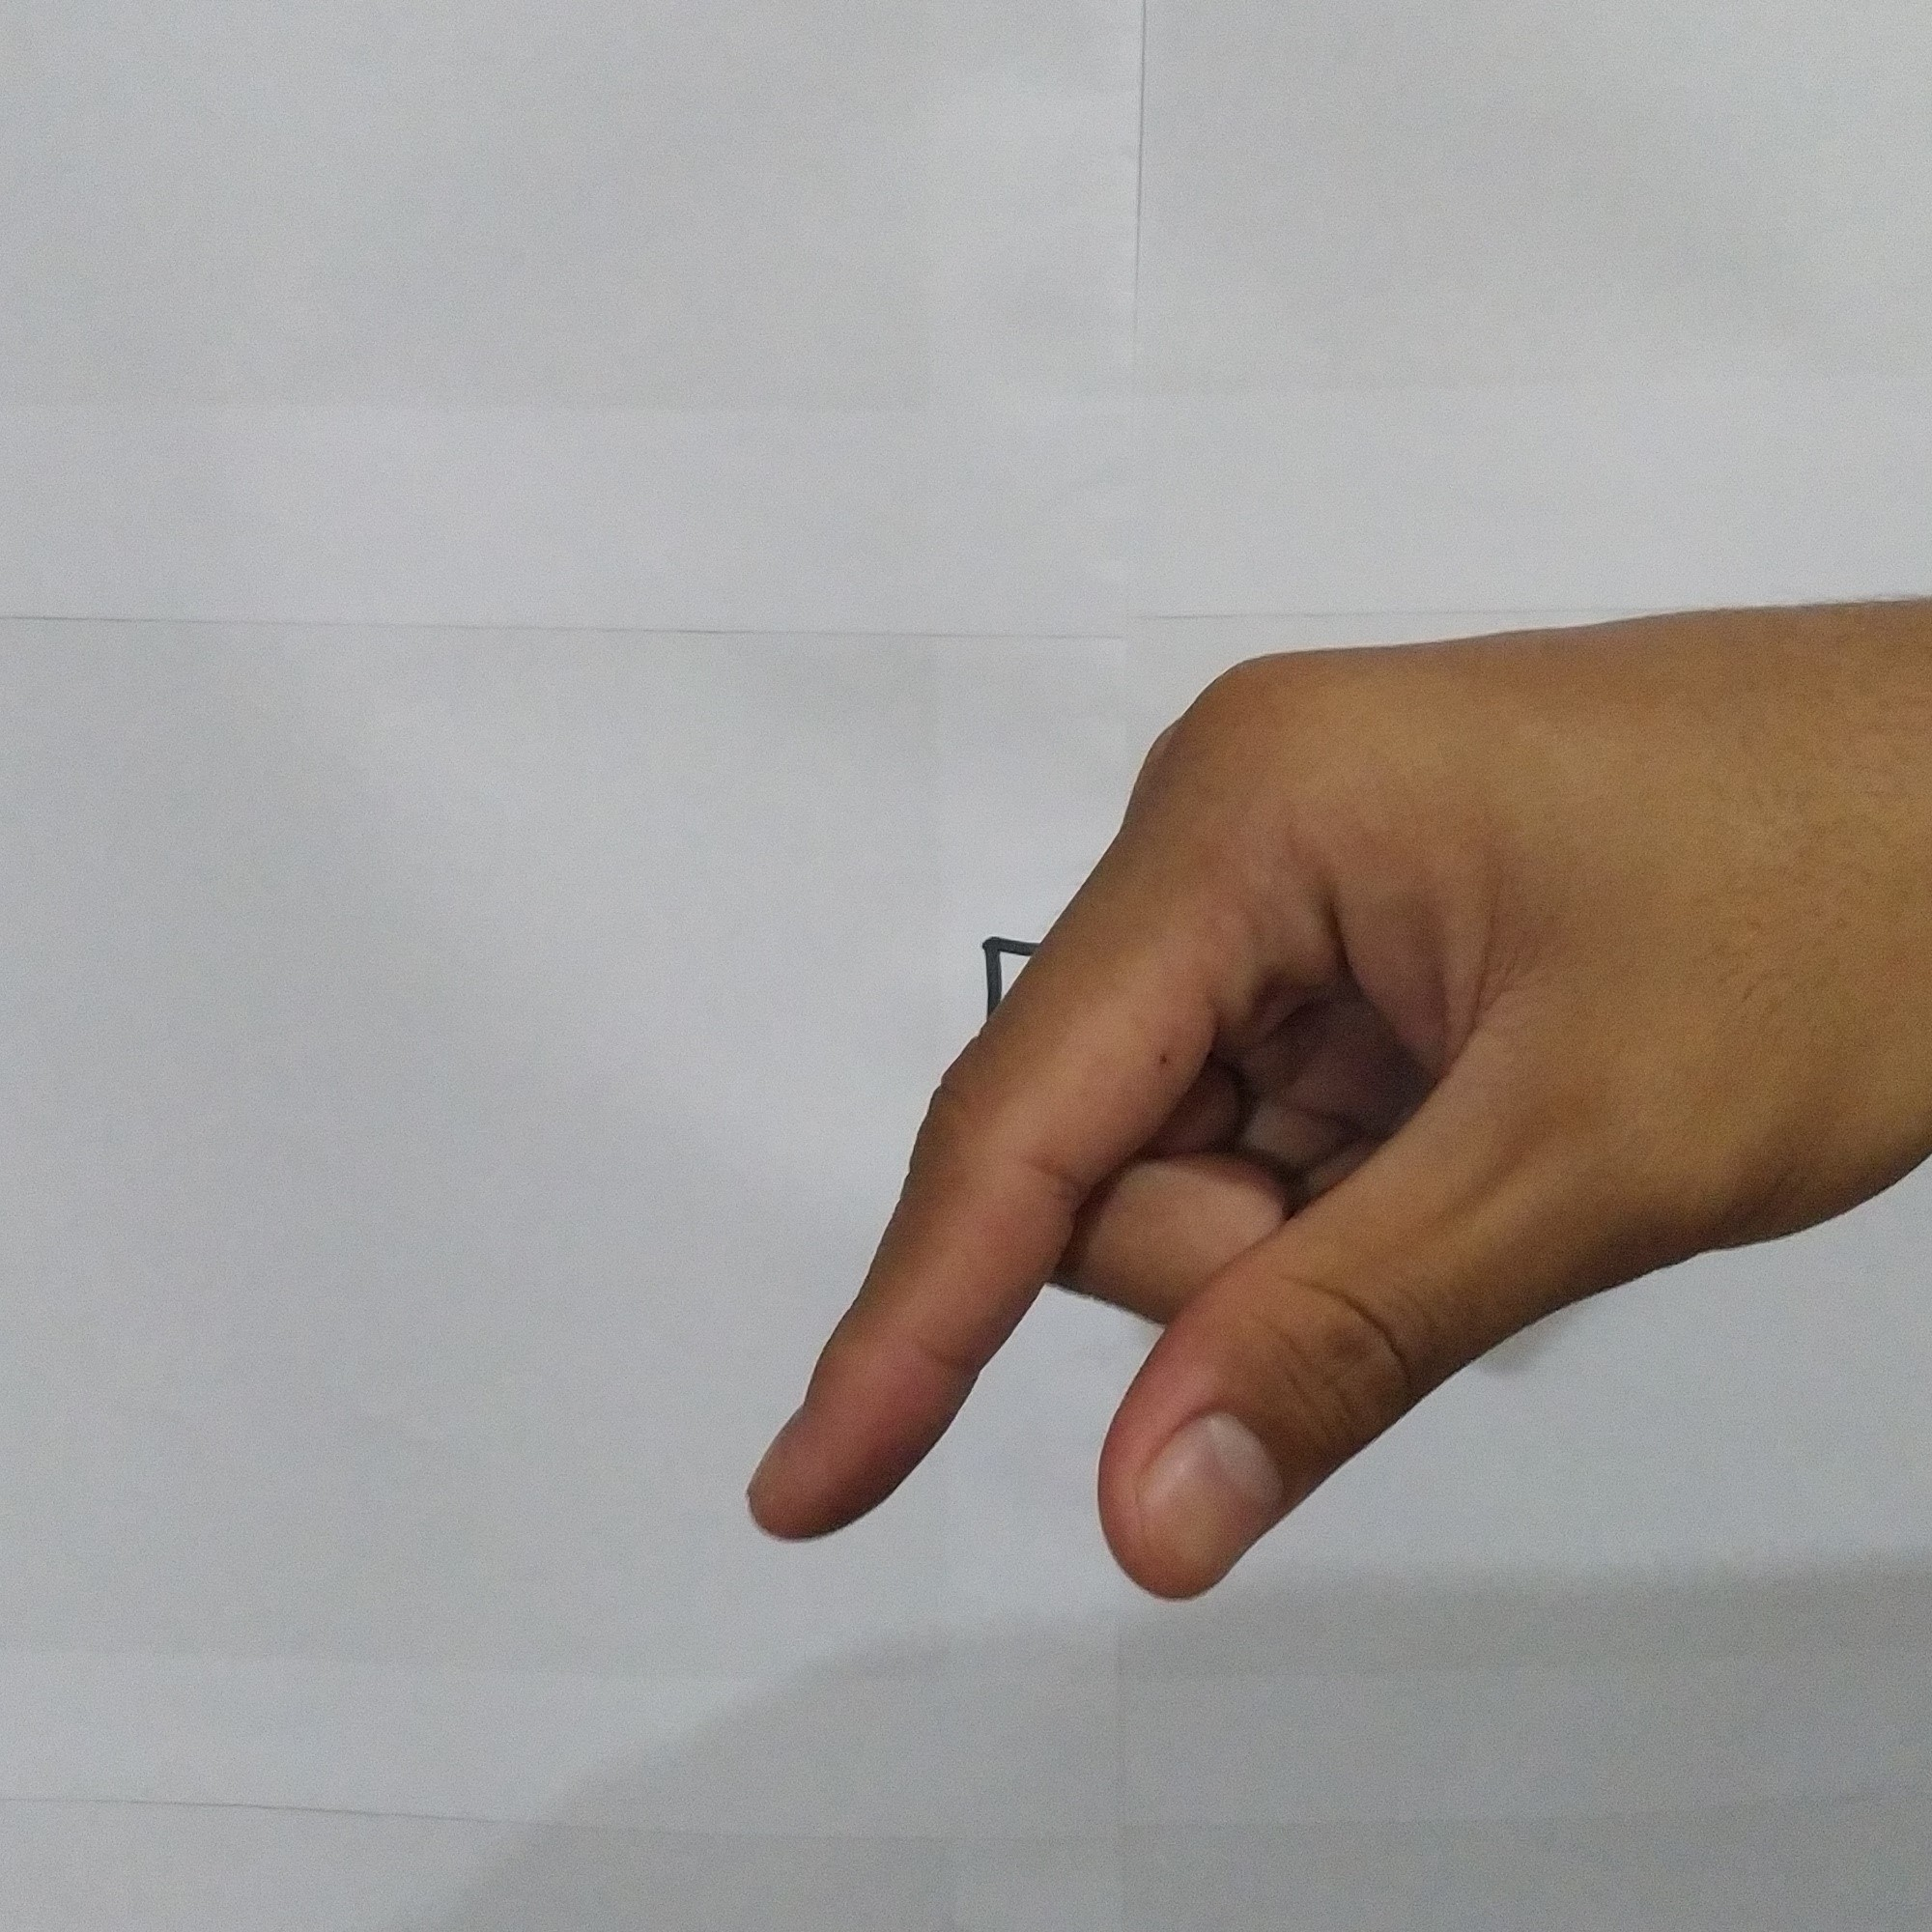Q: (701, 593, 1920, 1635)
